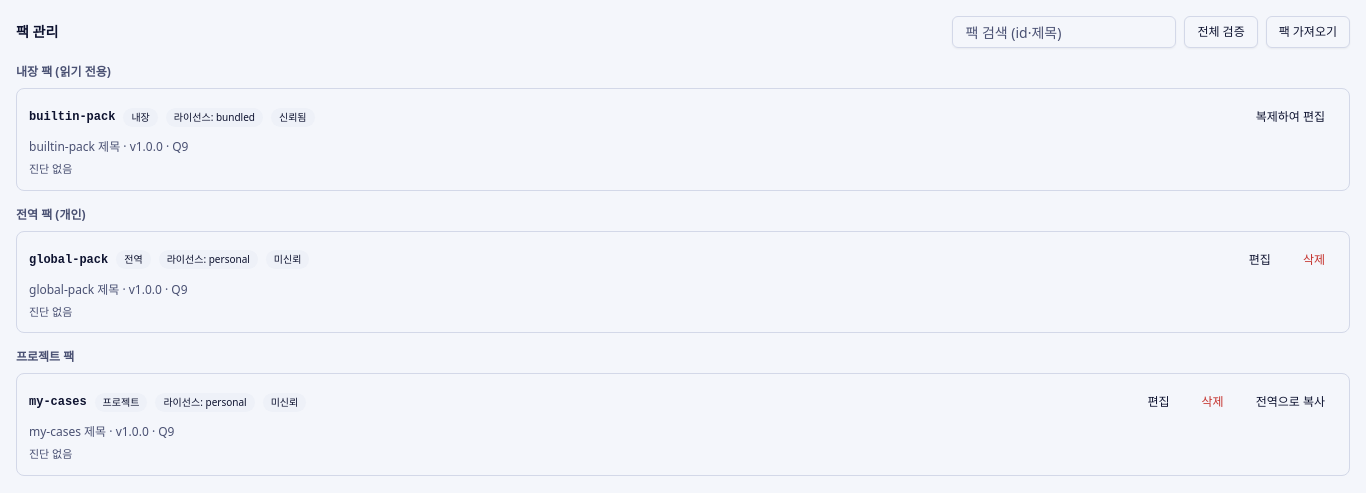
Test: PackManager › filters packs by search query
Step 1. Type "my-cases" into the field with placeholder "팩 검색 (id·제목)" → (1064, 32), box top-left (952, 16), bottom-right (1176, 48)
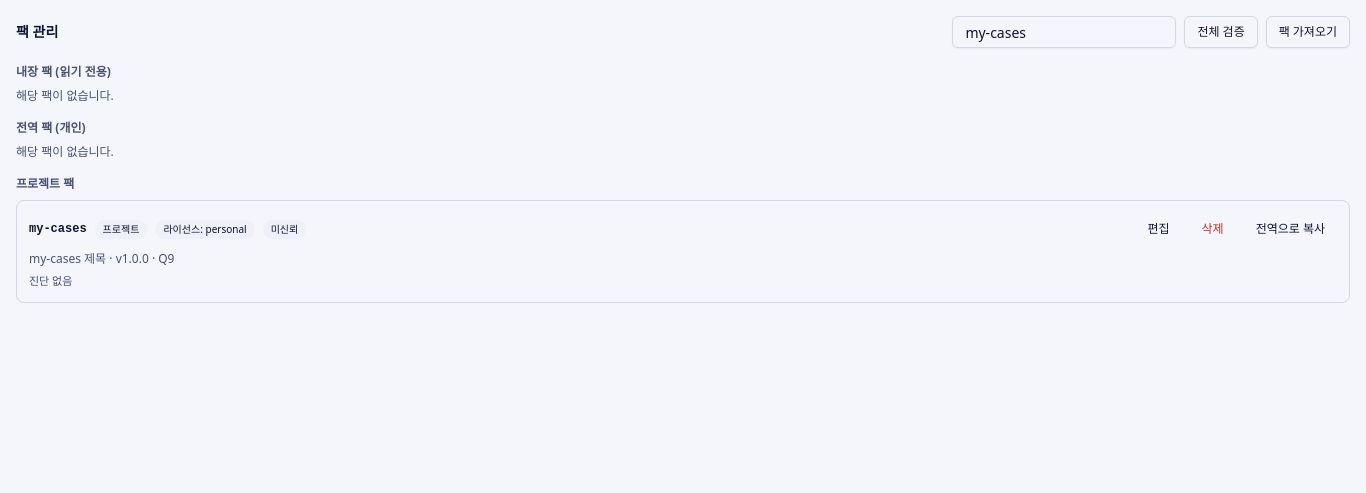
Expected: the text "my-cases" is shown, top-left (29, 221), bottom-right (87, 237)
Now the text "builtin-pack" is gone
